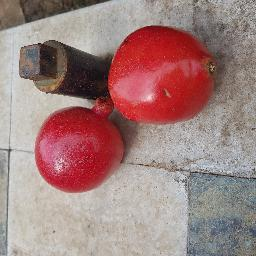Good_pomegranate: (103, 21, 228, 126), (31, 97, 132, 194)
